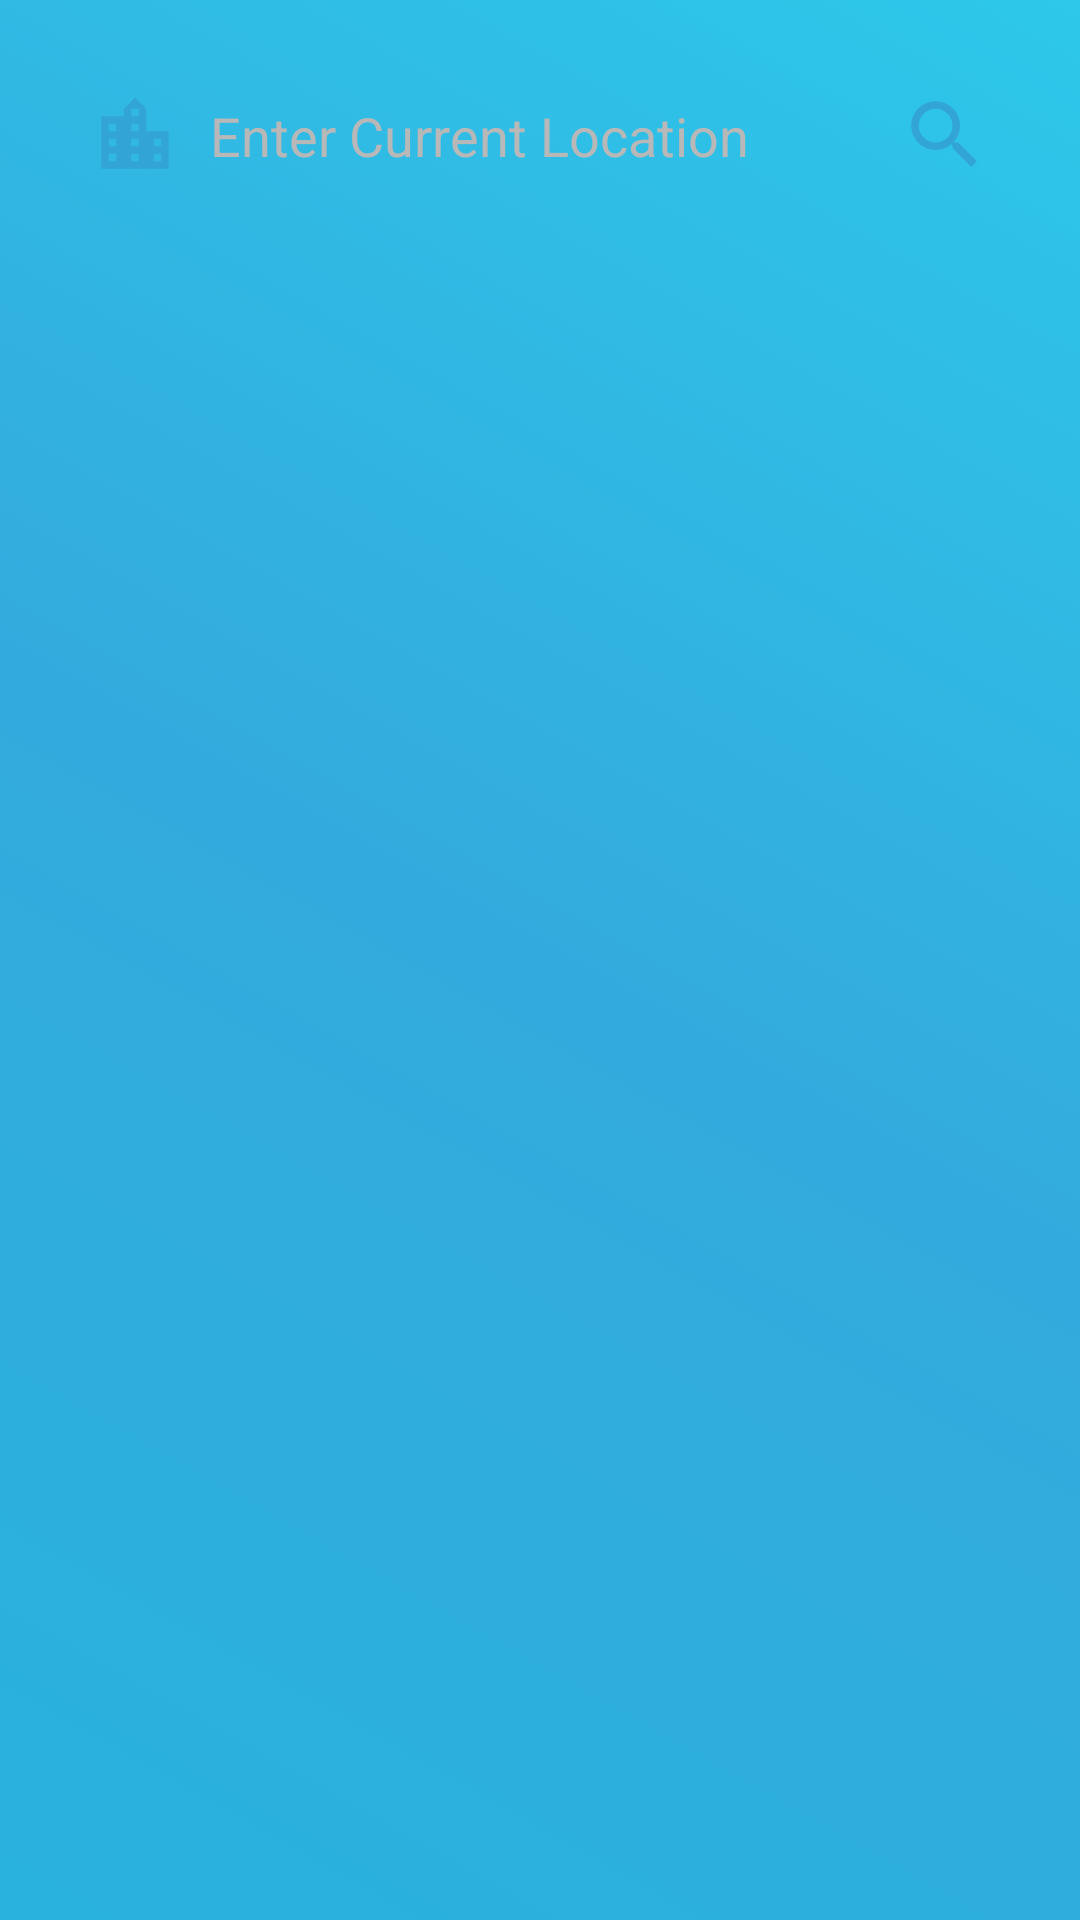

Locate icon controls on the screen. Image size 1080*1920, boxes as (x1, y1, x2, y2).
search: (911, 102, 976, 166)
